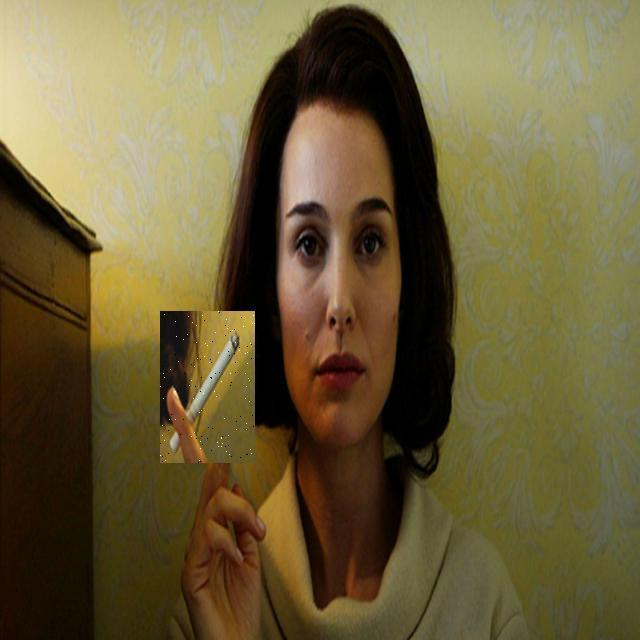smoking: (160, 311, 255, 463)
